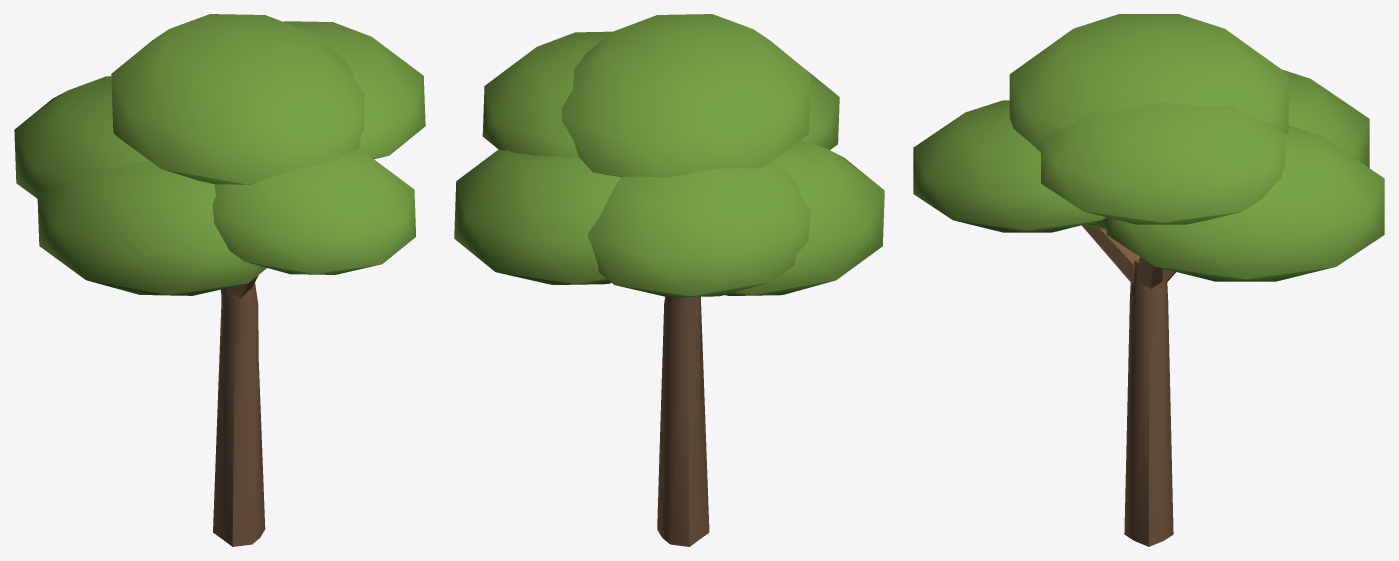
The model's file is tree_round_a_far.glb.
3 renders of one model, left to right at view 1: azimuth 30°, elevation 25°; view 2: azimuth 150°, elevation 25°; view 3: azimuth 270°, elevation 25°, orthographic.
Visible parts, largest first — view 1: body; view 2: body; view 3: body.
Boxes of the visible parts, x1=… form: body: x1=14, y1=14, x2=425, y2=546; body: x1=454, y1=14, x2=884, y2=546; body: x1=913, y1=14, x2=1384, y2=546.
Size of the model in its own units: 3.86 by 5.16 by 4.37.
